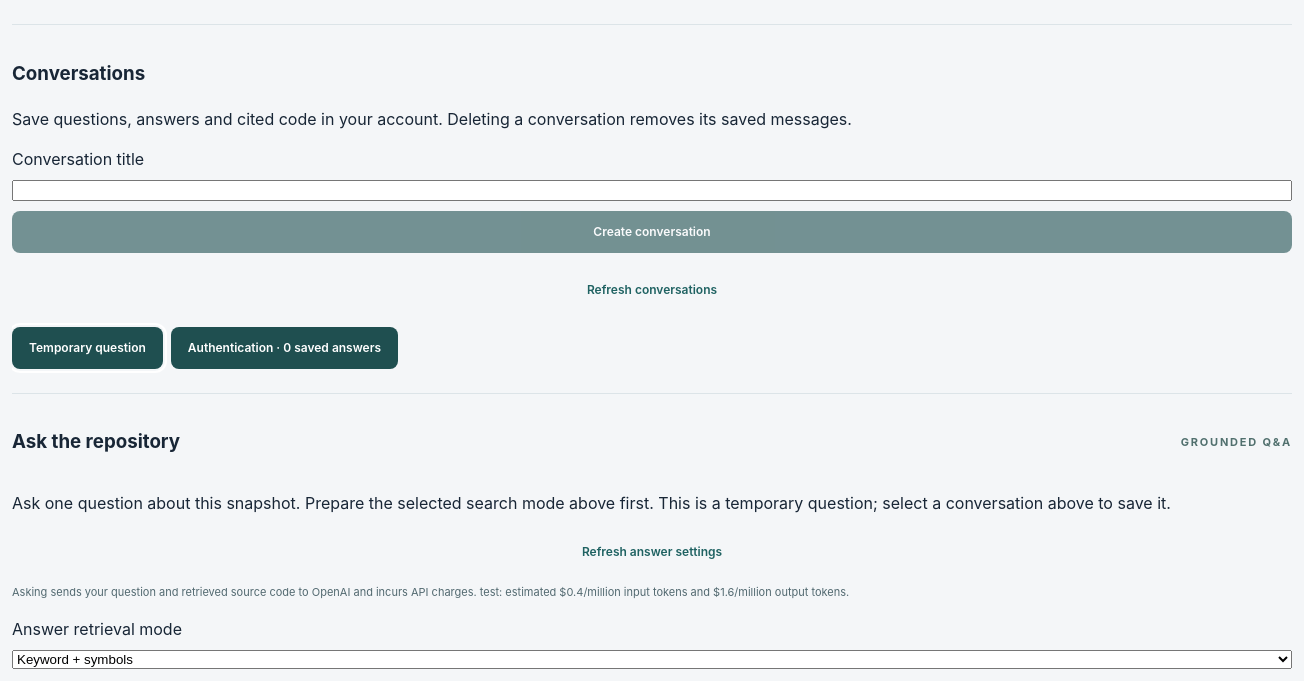
Test case: saved conversation UI › requires explicit deletion confirmation and keeps the temporary question available
Click the button "Authentication · 0 saved answers" at (284, 348), box [171,327,398,369]
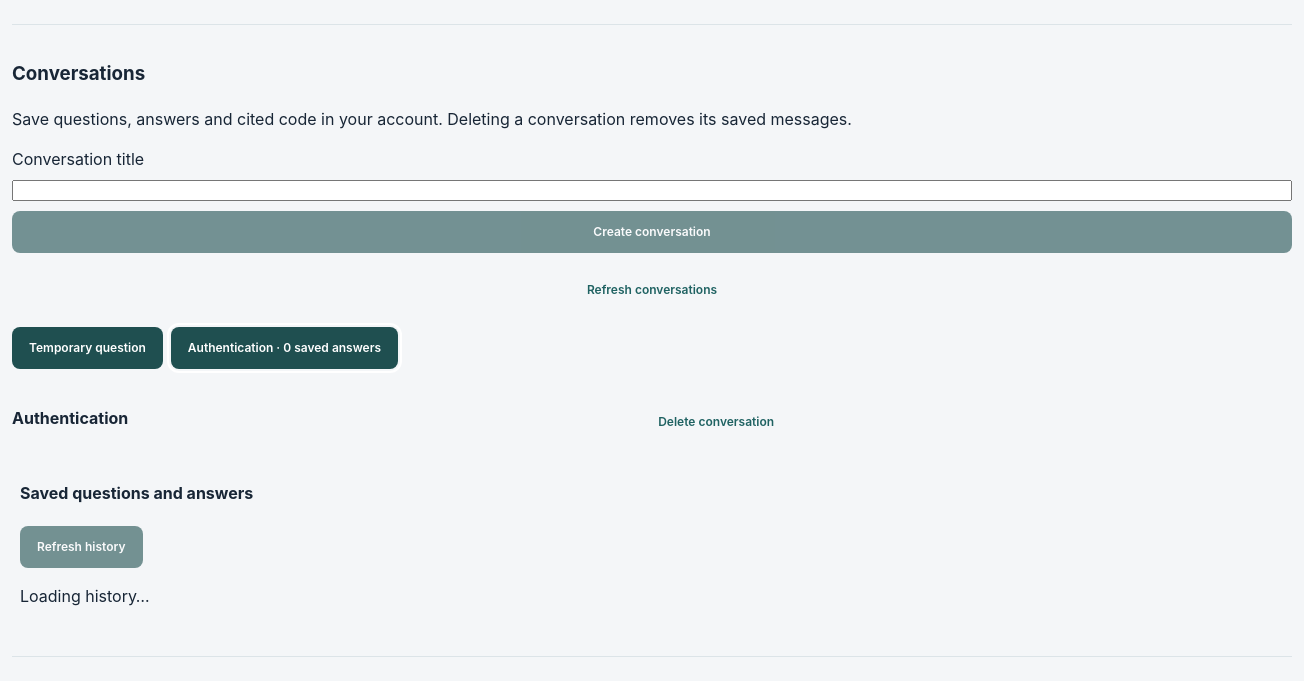
Click the button "Delete conversation" at (716, 422), box [641,401,791,443]
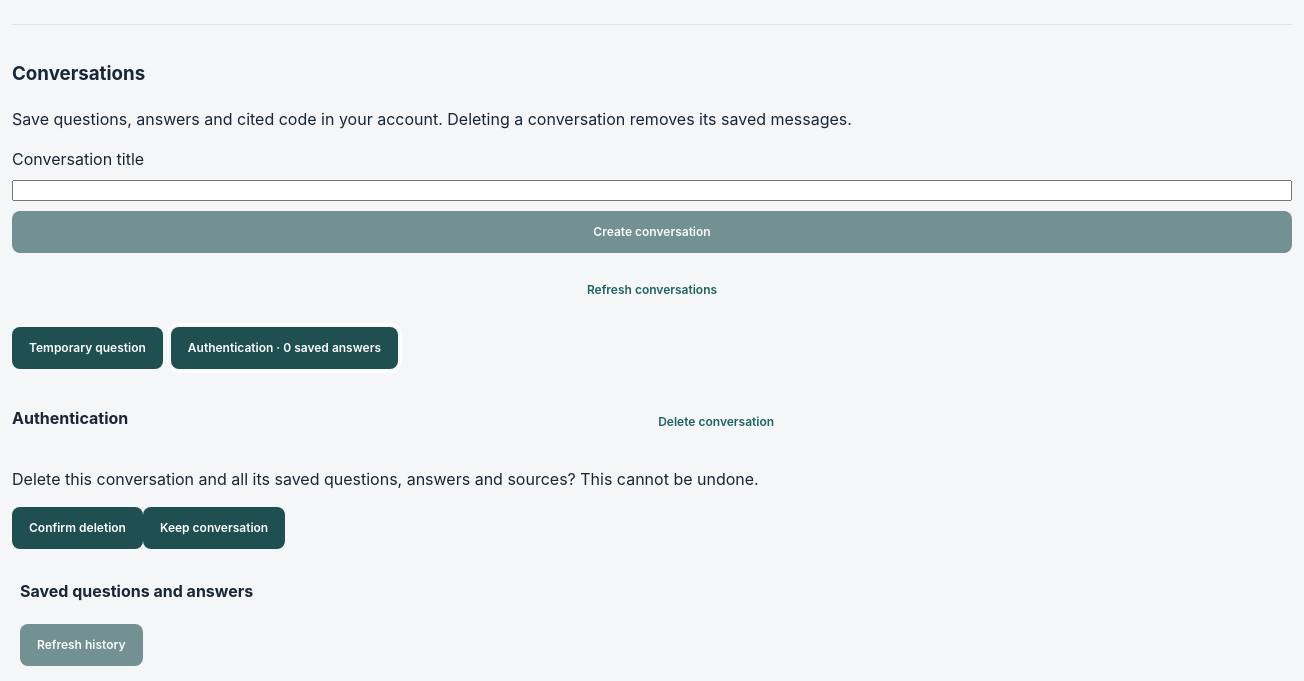
Click the button "Keep conversation" at (214, 528), box [143,507,285,549]
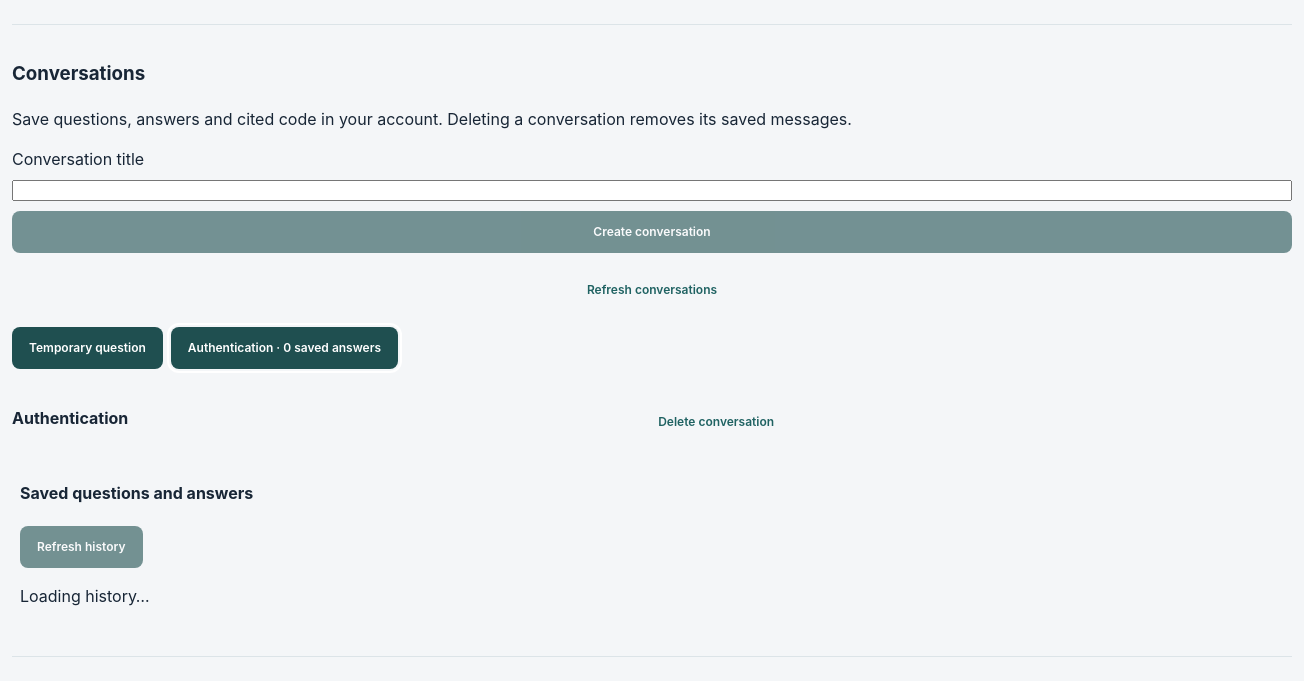
expect the button "Confirm deletion" is gone: met
Click the button "Delete conversation" at (716, 422), box [641,401,791,443]
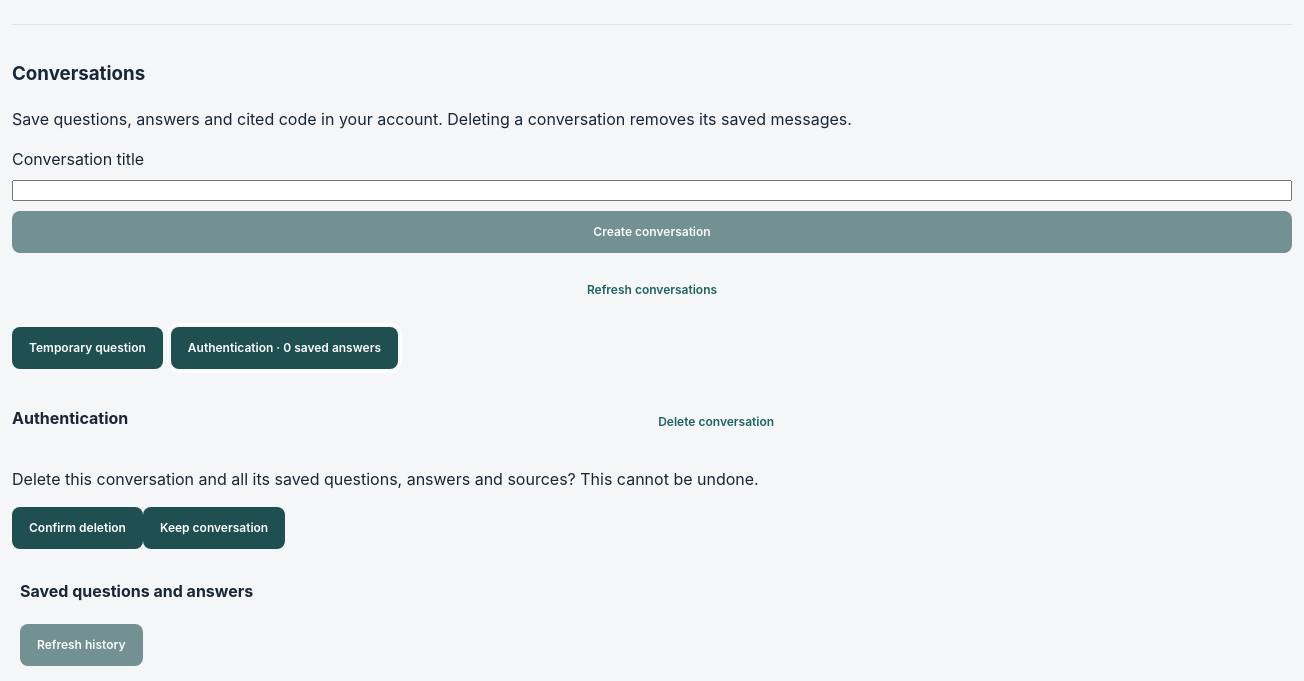
Click the button "Confirm deletion" at (77, 528), box [12,507,143,549]
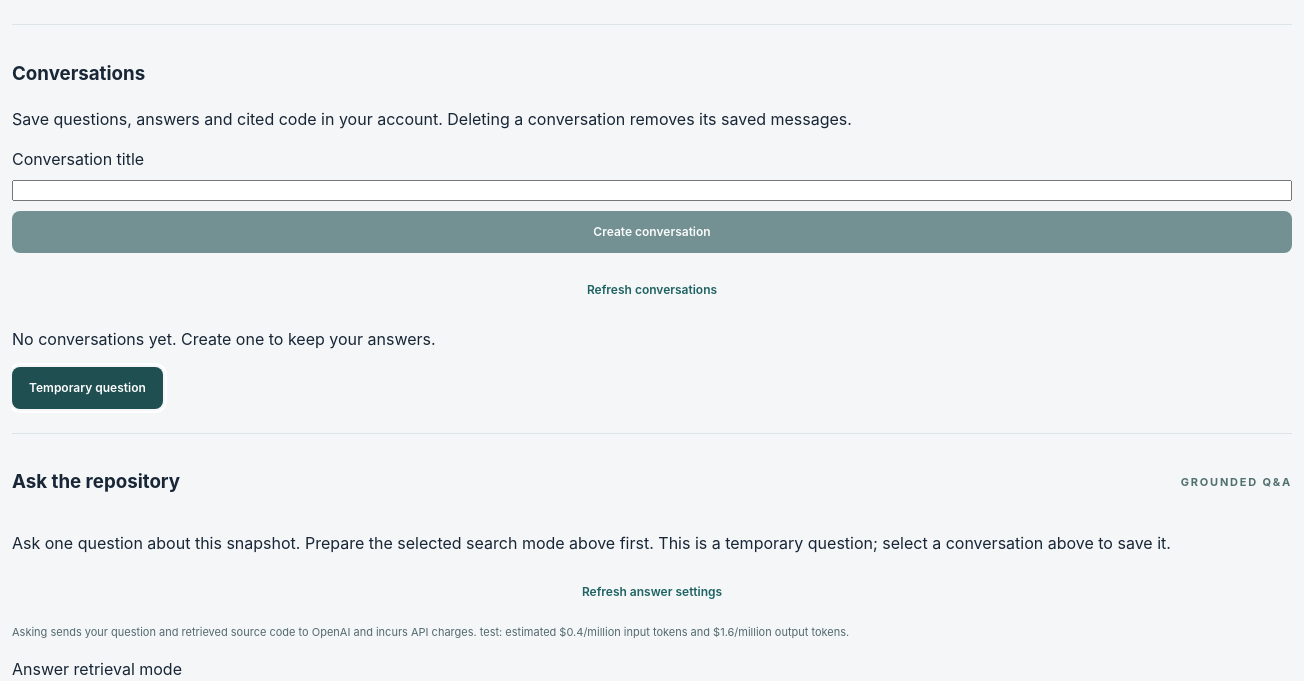
expect the text "No conversations yet. Create one to keep your answers." is shown: met, box [12,329,436,349]
